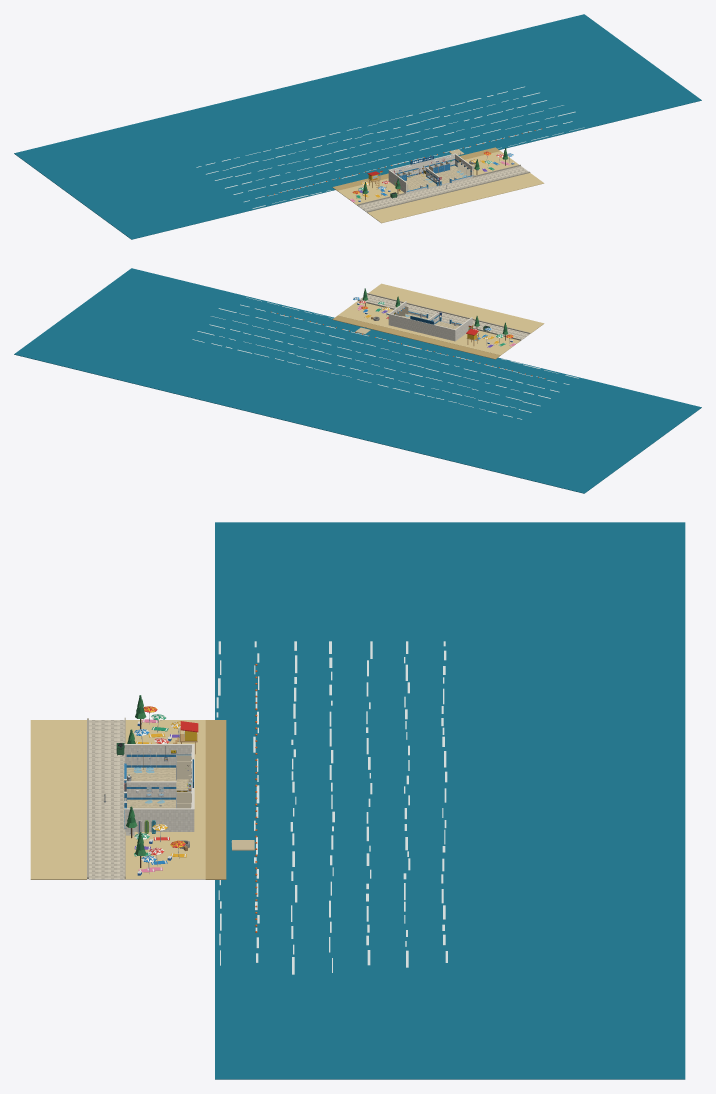
Rendered from level_beach.glb.
3 renders of one model, top to bottom at view 1: azimuth 30°, elevation 25°; view 2: azimuth 150°, elevation 25°; view 3: azimuth 270°, elevation 25°, orthographic. The views are drawn at different scales.
Visible parts, largest first — view 1: sea, neighbours, sea_foam, street, walls, floor; view 2: sea, neighbours, sea_foam, walls, street; view 3: sea, neighbours, street, sea_foam, walls, floor.
Boxes of the visible parts, box(x1,y1,x2,y2) form: sea: box(14, 14, 701, 239); neighbours: box(267, 128, 544, 223); sea_foam: box(196, 86, 584, 208); street: box(358, 166, 530, 212); walls: box(388, 153, 472, 193); floor: box(405, 165, 466, 190); sea: box(14, 268, 701, 493); neighbours: box(271, 283, 545, 378); sea_foam: box(192, 297, 578, 419); walls: box(388, 301, 472, 341); street: box(360, 293, 530, 340); sea: box(215, 522, 685, 1079); neighbours: box(30, 664, 257, 932); street: box(87, 718, 124, 879); sea_foam: box(216, 641, 447, 974); walls: box(124, 744, 194, 831); floor: box(126, 767, 189, 808).
Bounding box in the file's own units: 140 × 4.45 × 69.6.
95 materials, 4 textured.
